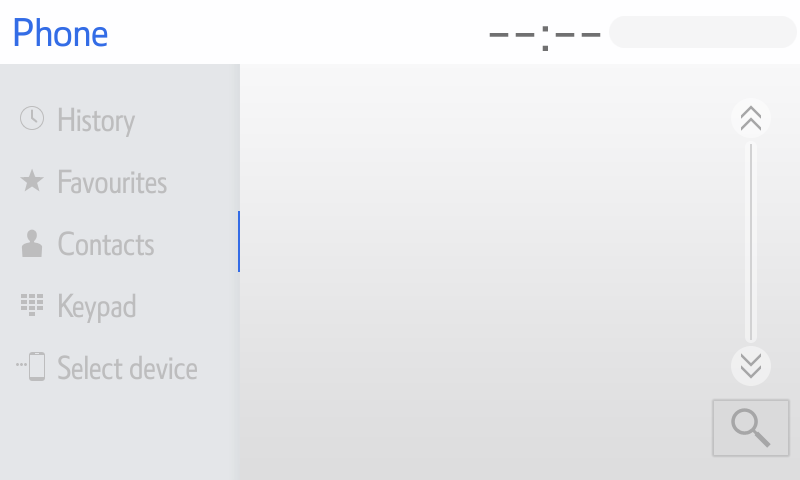untouchPart: (469, 13, 800, 52), (12, 346, 198, 392), (6, 220, 153, 265), (5, 165, 164, 202), (8, 98, 136, 143), (706, 396, 796, 458), (18, 283, 138, 329), (8, 16, 129, 51), (723, 343, 778, 388), (733, 102, 769, 142)
